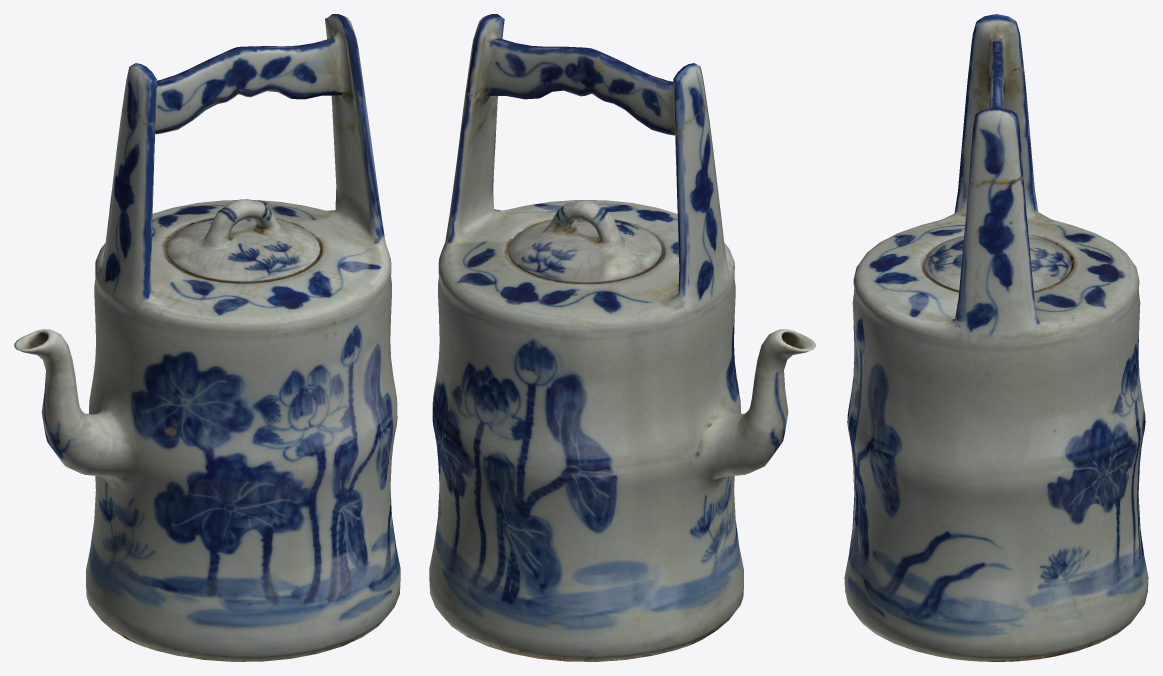
The model's file is tea.obj.
The picture shows the model from 3 angles, left to right: view 1: azimuth 30°, elevation 25°; view 2: azimuth 150°, elevation 25°; view 3: azimuth 270°, elevation 25°; orthographic projection. The views are drawn at different scales.
Visible parts, largest first — view 1: Object003_001, Object001; view 2: Object003_001, Object001; view 3: Object003_001, Object001.
Boxes of the visible parts, x1,y1,x2,y2 form: Object003_001: (14,14,400,661); Object001: (166,199,320,283); Object003_001: (429,14,815,661); Object001: (508,200,661,283); Object003_001: (844,14,1148,661); Object001: (923,235,1071,291).
Bounding box in the file's own units: 2.51 × 3.67 × 1.88.
1 material, 1 textured.
